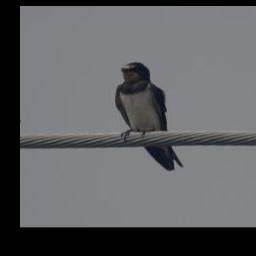Swallow: (115, 61, 184, 170)
